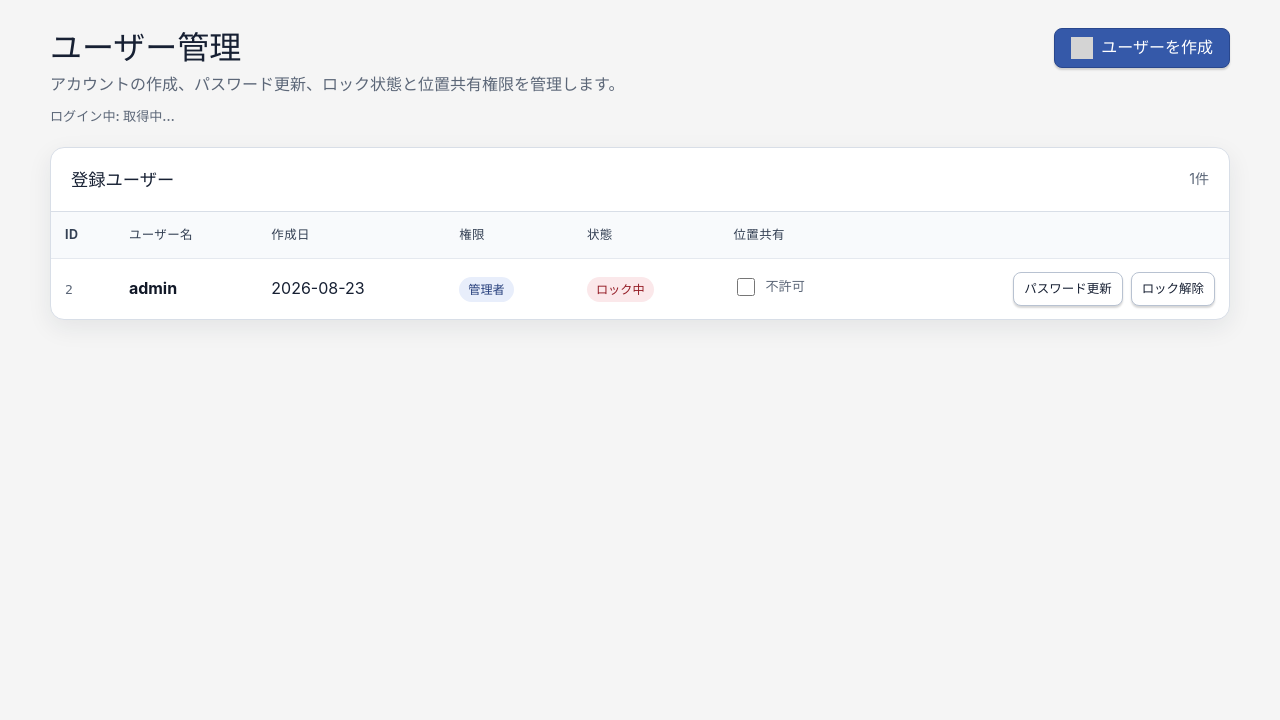
Test: 管理操作の失敗と入力検証 › ロック解除失敗を通知し、ログイン情報取得失敗でログインへ移動する
The image size is (1280, 720).
Click the button "ロック解除".
click(1173, 289)  # box left=1131, top=272, right=1215, bottom=306
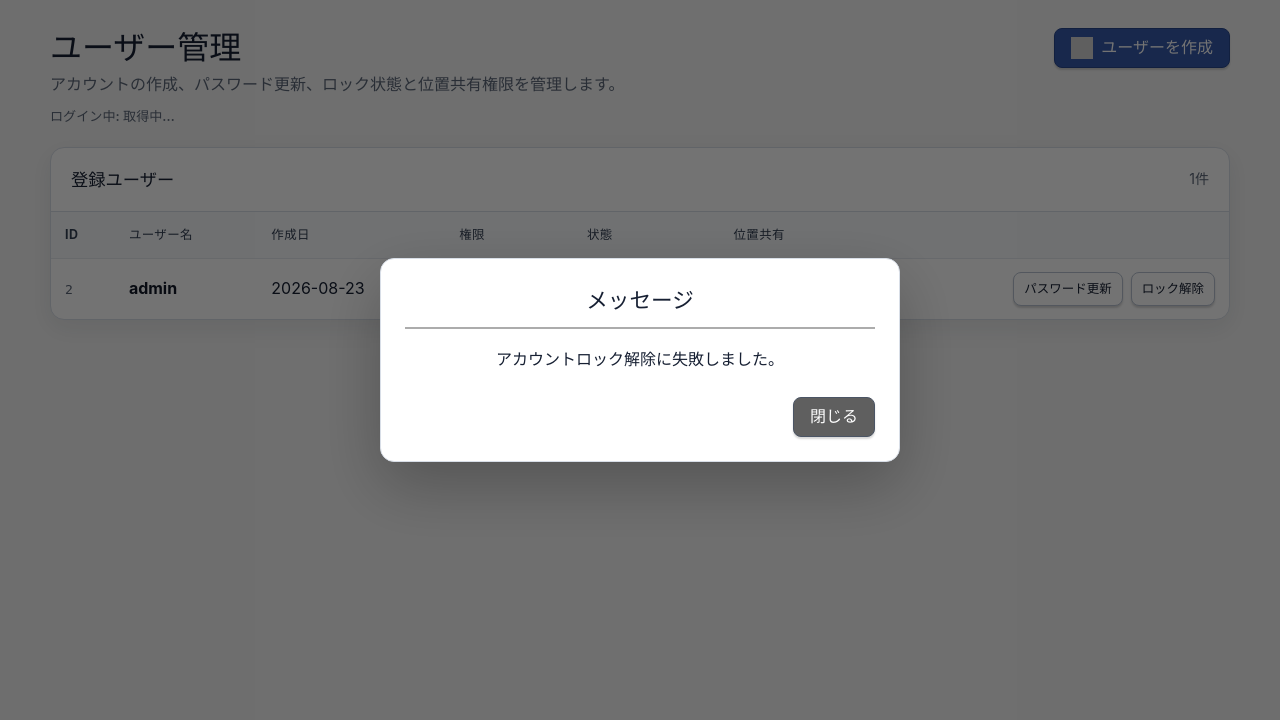
Result: the text "解除に失敗" is shown at left=496, top=350, right=784, bottom=370
